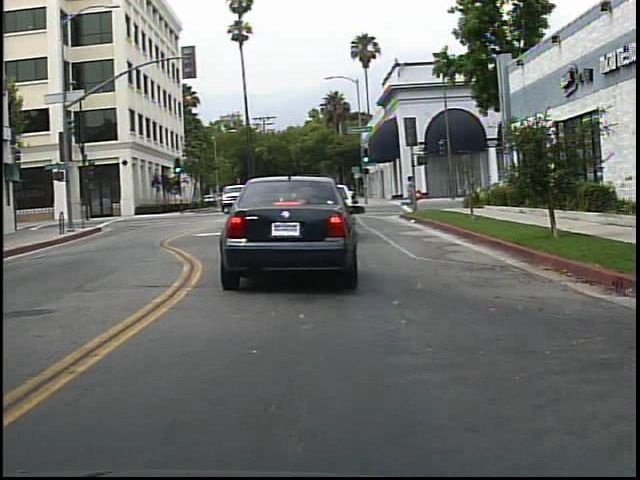person: (397, 173, 414, 217)
